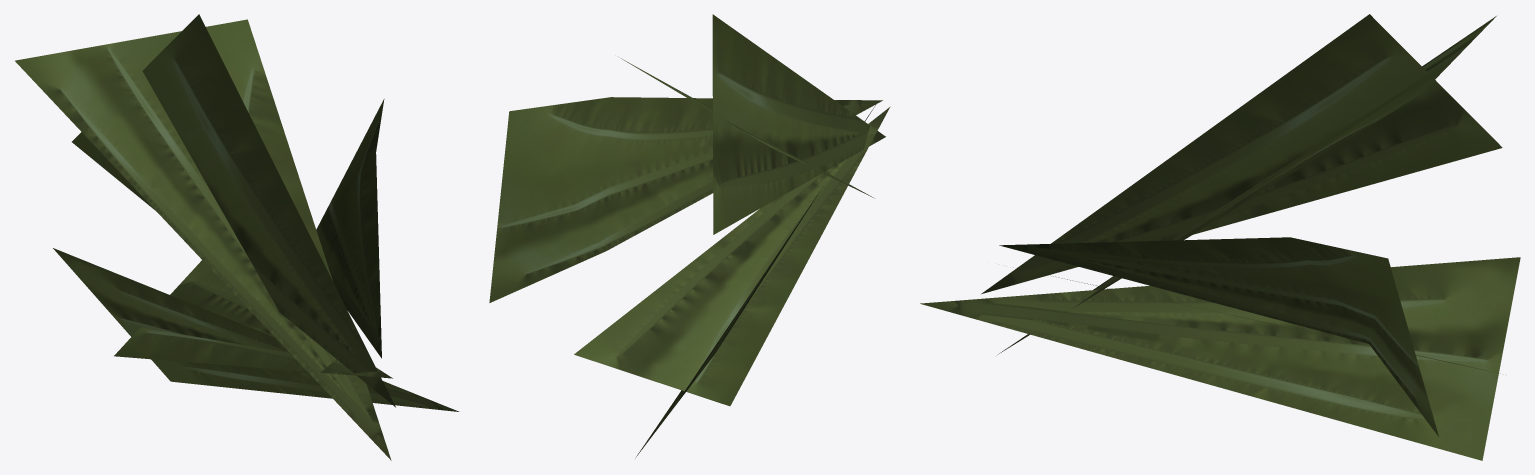
File: UC_Grass_03-2.fbx
The picture shows the model from 3 angles, left to right: view 1: azimuth 30°, elevation 25°; view 2: azimuth 150°, elevation 25°; view 3: azimuth 270°, elevation 25°; orthographic projection. The views are drawn at different scales.
Visible parts, largest first — view 1: UC_Grass_01_03; view 2: UC_Grass_01_03; view 3: UC_Grass_01_03.
Part boxes in pixels (<box>): UC_Grass_01_03: <box>15,14,459,460</box>; UC_Grass_01_03: <box>489,14,890,458</box>; UC_Grass_01_03: <box>920,14,1520,460</box>.
Size of the model in its own units: 2.13 by 2.64 by 3.32.
